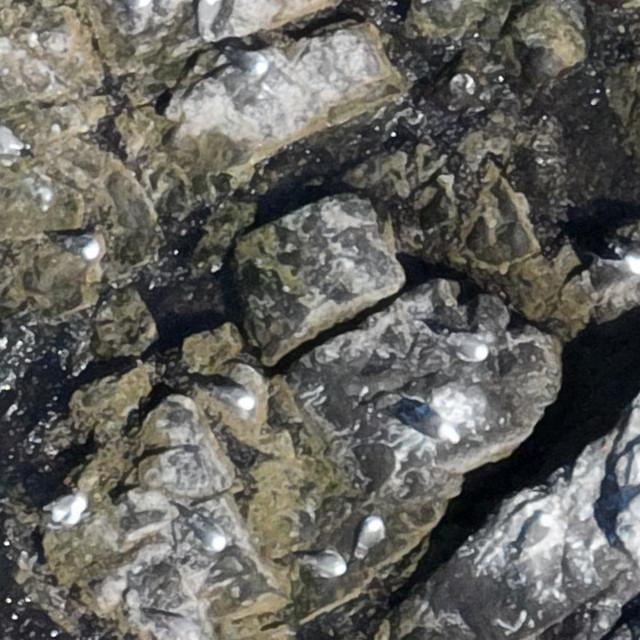umineko: (188, 512, 225, 552), (204, 382, 254, 411), (50, 491, 88, 528), (230, 45, 271, 76), (409, 415, 451, 438), (358, 517, 382, 550), (453, 338, 490, 359), (70, 237, 101, 258), (312, 556, 345, 575), (1, 126, 22, 152)
